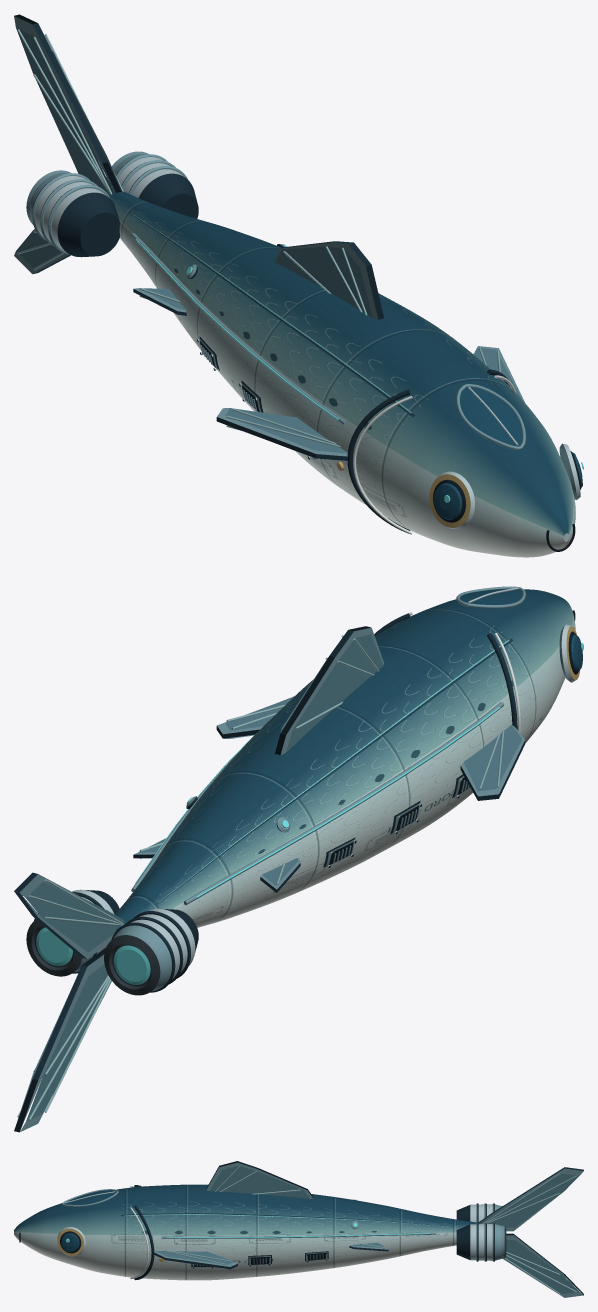
The model's file is ship.glb.
3 views of the same model, one above another, from view 1: azimuth 30°, elevation 25°; view 2: azimuth 150°, elevation 25°; view 3: azimuth 270°, elevation 25° (orthographic). The views are drawn at different scales.
Visible parts, largest first — view 1: sardine_hull; view 2: sardine_hull; view 3: sardine_hull.
Boxes of the visible parts, x1=… form: sardine_hull: x1=14, y1=14, x2=583, y2=557; sardine_hull: x1=14, y1=586, x2=583, y2=1132; sardine_hull: x1=14, y1=1161, x2=583, y2=1297.
Bounding box in the file's own units: 4.8 × 4.25 × 16.2.
Materials: 1 (1 with a texture image).
